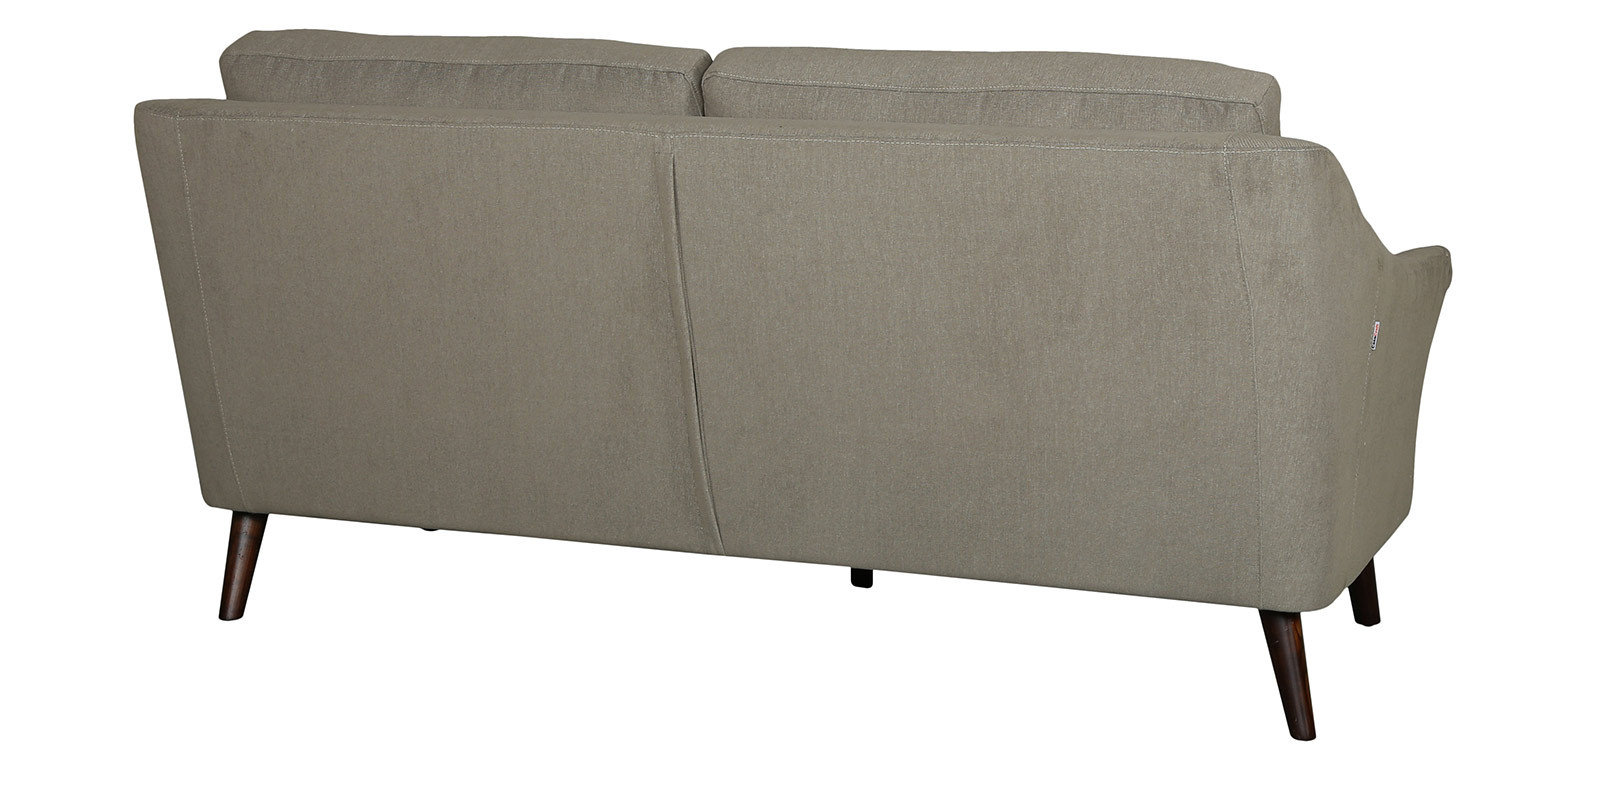Juan Three Seater Sofs in Sandy Brown Colour by CasaCraft: (128, 24, 1457, 744)
